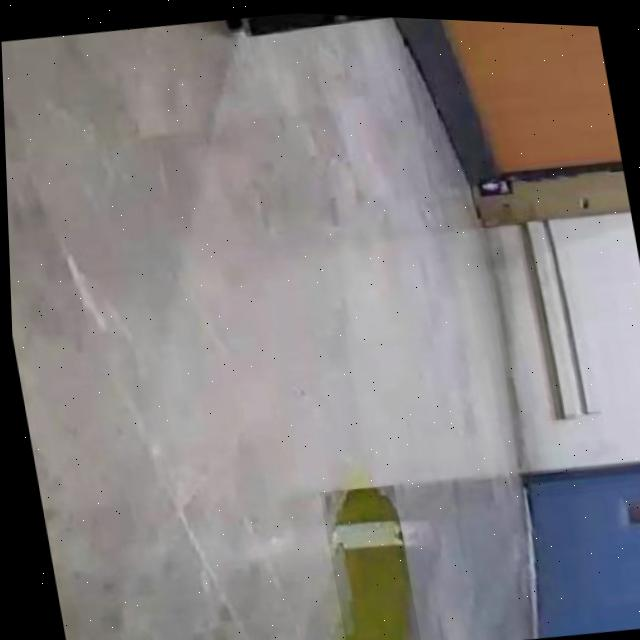spillage: (326, 486, 402, 640)
